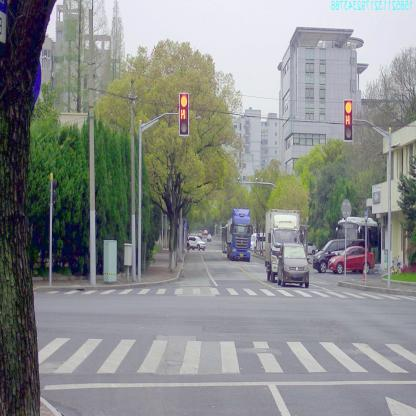traffic-light: (180, 93, 189, 135), (344, 100, 353, 141)
